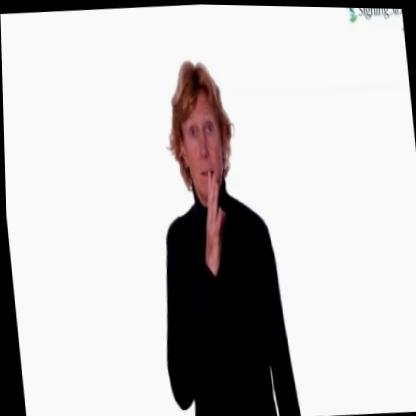Talk: (160, 51, 276, 283)
